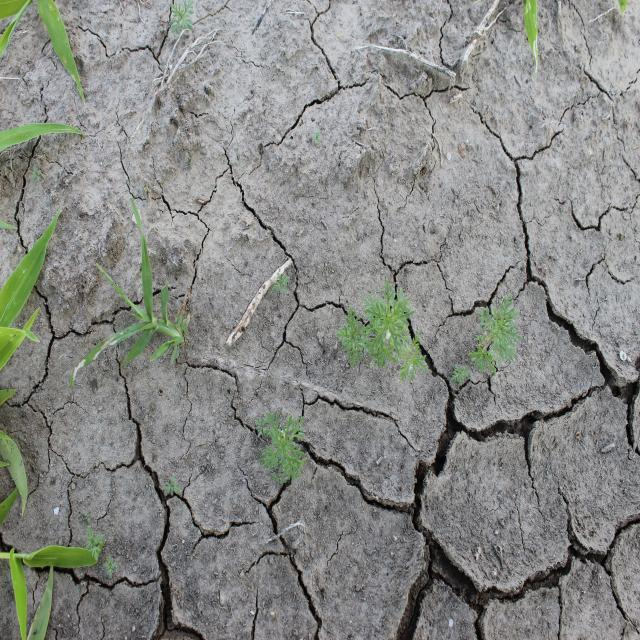Goosegrass: (66, 195, 193, 392)
Ragweed: (333, 276, 430, 385), (467, 291, 523, 375), (252, 407, 308, 487), (167, 0, 195, 36), (84, 526, 106, 562), (160, 472, 184, 502), (272, 269, 292, 299), (451, 361, 473, 385), (103, 552, 118, 580)
